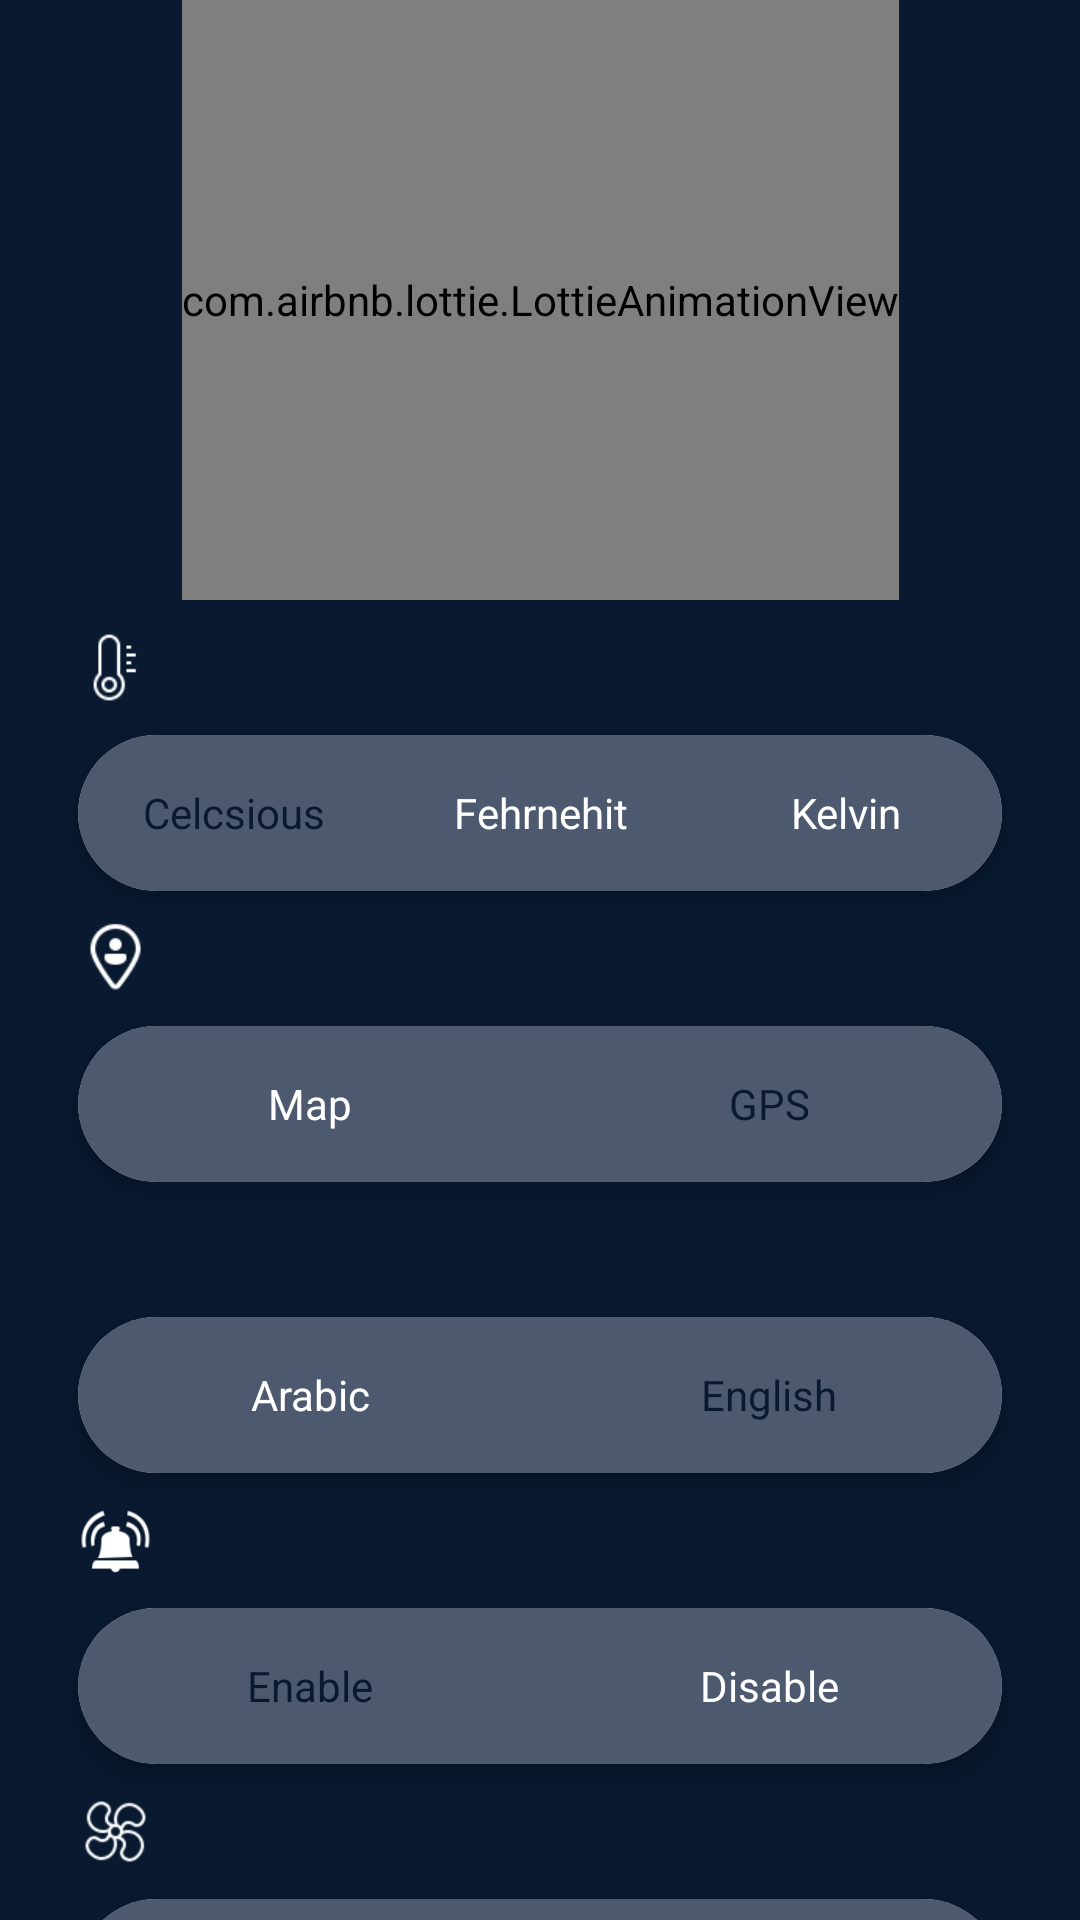

Named icons in this screenshot (1080px x 1920px) and their centers, (x,y):
enabe not: (115,1542)
location: (115,957)
wind speed unit: (115,1831)
